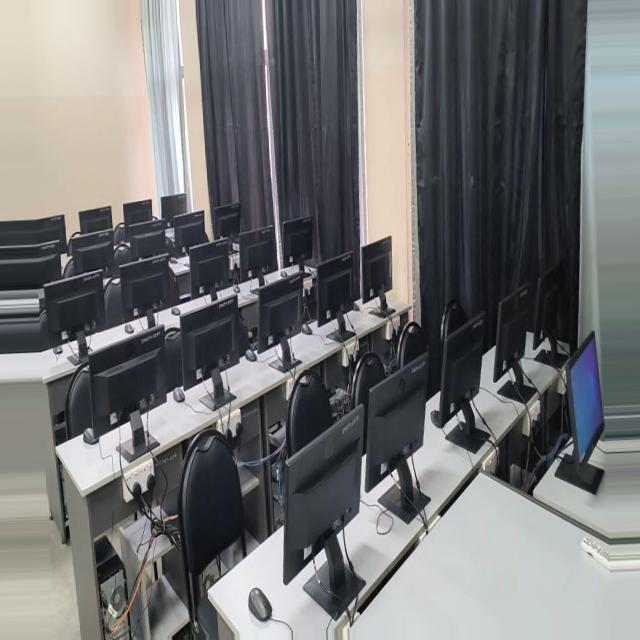Chair: (157, 424, 221, 580), (274, 374, 331, 445), (26, 352, 54, 425), (354, 355, 391, 400), (408, 328, 444, 360), (143, 318, 160, 382), (455, 306, 485, 340), (77, 264, 95, 316), (89, 231, 107, 254), (0, 294, 8, 336), (29, 243, 41, 265), (89, 210, 101, 232)
Monitor: (267, 410, 367, 618), (364, 360, 442, 532), (59, 320, 142, 454), (453, 321, 508, 465), (589, 348, 634, 501), (164, 288, 228, 387), (248, 269, 304, 371), (518, 288, 560, 421), (9, 257, 76, 337), (563, 271, 599, 385), (318, 250, 360, 345), (96, 245, 152, 312), (370, 234, 406, 321), (173, 230, 220, 292), (233, 220, 271, 278), (41, 217, 88, 261), (280, 214, 316, 265), (157, 202, 194, 250), (106, 207, 148, 249), (202, 196, 235, 233), (0, 226, 27, 268), (51, 190, 87, 220), (1, 198, 34, 228), (101, 189, 134, 215), (145, 182, 173, 208)
Mouse: (225, 591, 252, 629), (232, 342, 246, 362), (149, 381, 163, 399), (45, 418, 57, 438), (298, 320, 310, 338), (442, 414, 450, 438), (16, 333, 26, 346), (152, 298, 161, 312), (98, 314, 106, 326), (222, 281, 232, 289), (278, 264, 285, 275)
